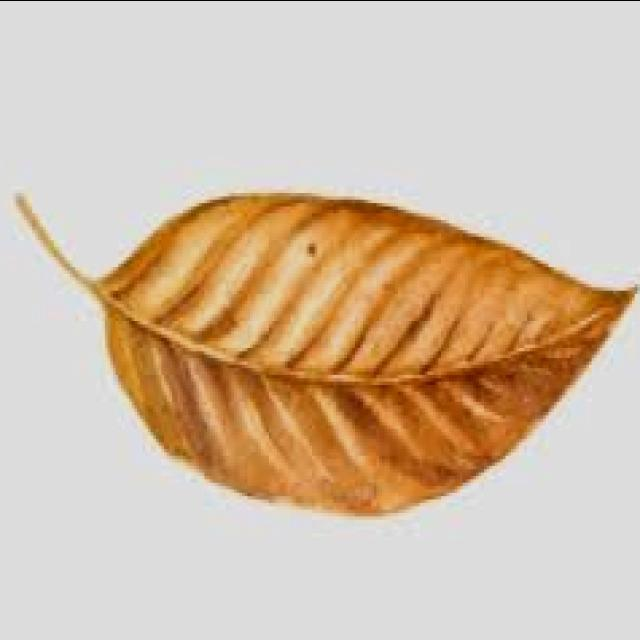leaf: (14, 188, 637, 516)
